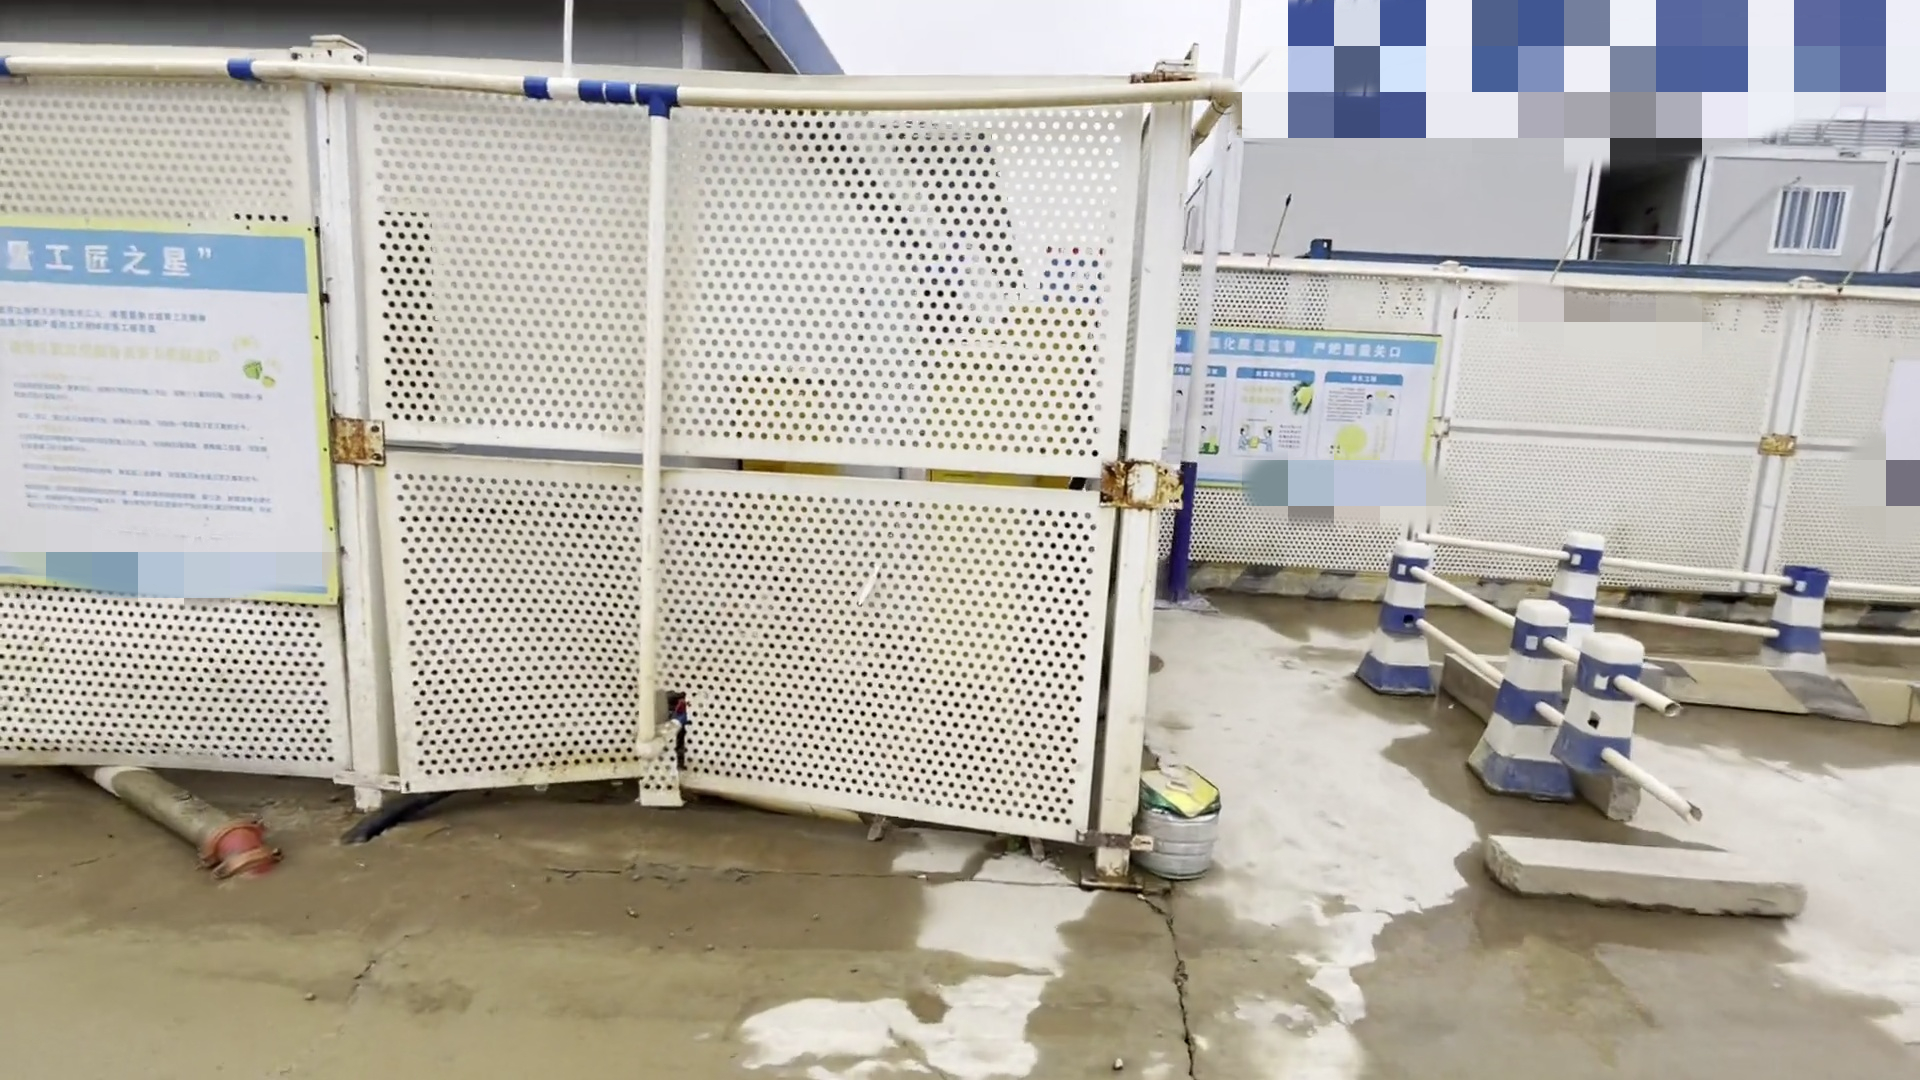slogan: (8, 204, 369, 616), (1199, 334, 1436, 488)
